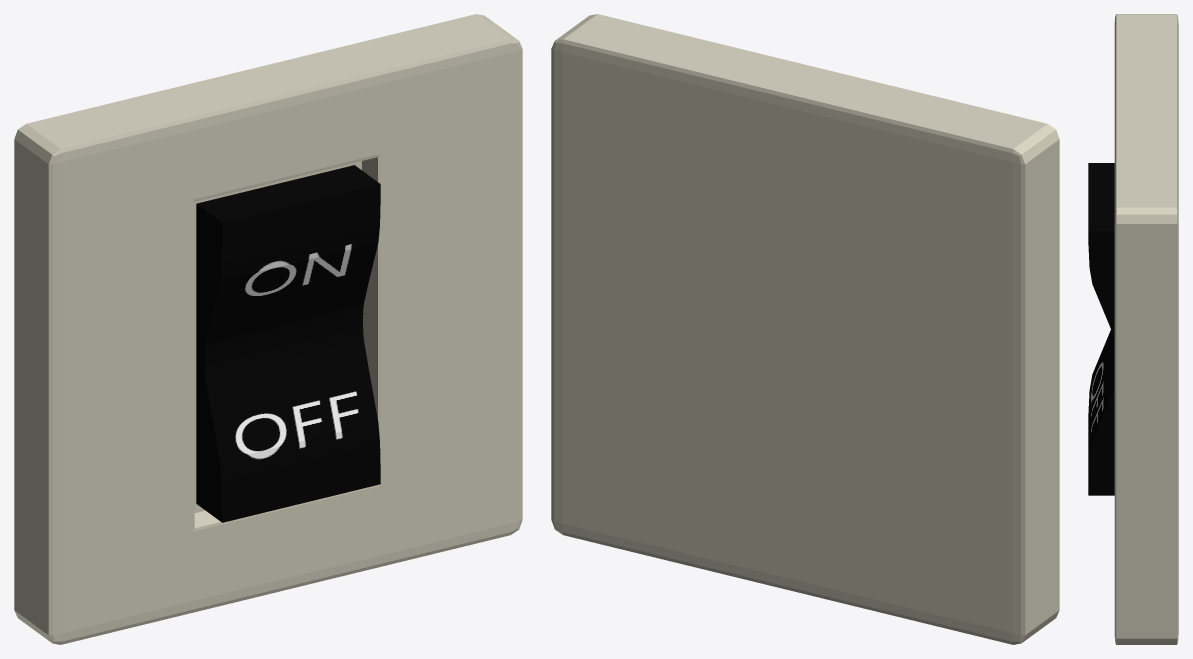
Rendered from Theme01_Lightswitch.fbx.
3 renders of one model, left to right at view 1: azimuth 30°, elevation 25°; view 2: azimuth 150°, elevation 25°; view 3: azimuth 270°, elevation 25°, orthographic. The views are drawn at different scales.
Parts seen in each view (by area): view 1: Lightswitch.001; view 2: Lightswitch.001; view 3: Lightswitch.001.
Part boxes in pixels (bbox=[...]): Lightswitch.001: bbox=[14, 14, 522, 644]; Lightswitch.001: bbox=[551, 14, 1059, 644]; Lightswitch.001: bbox=[1088, 14, 1178, 644].
Size of the model in its own units: 0.5194 by 0.5194 by 0.0972.
Materials: 2 (1 with a texture image).
